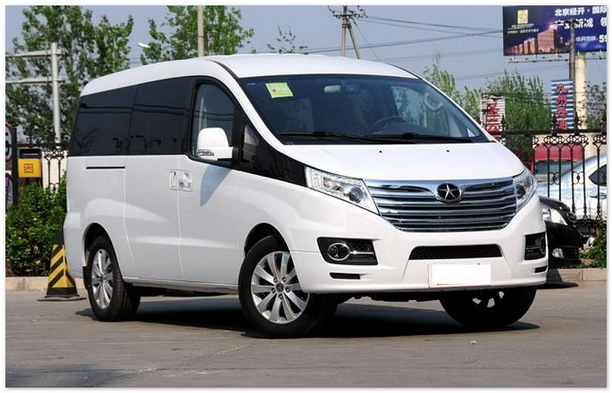van: (57, 51, 554, 336)
